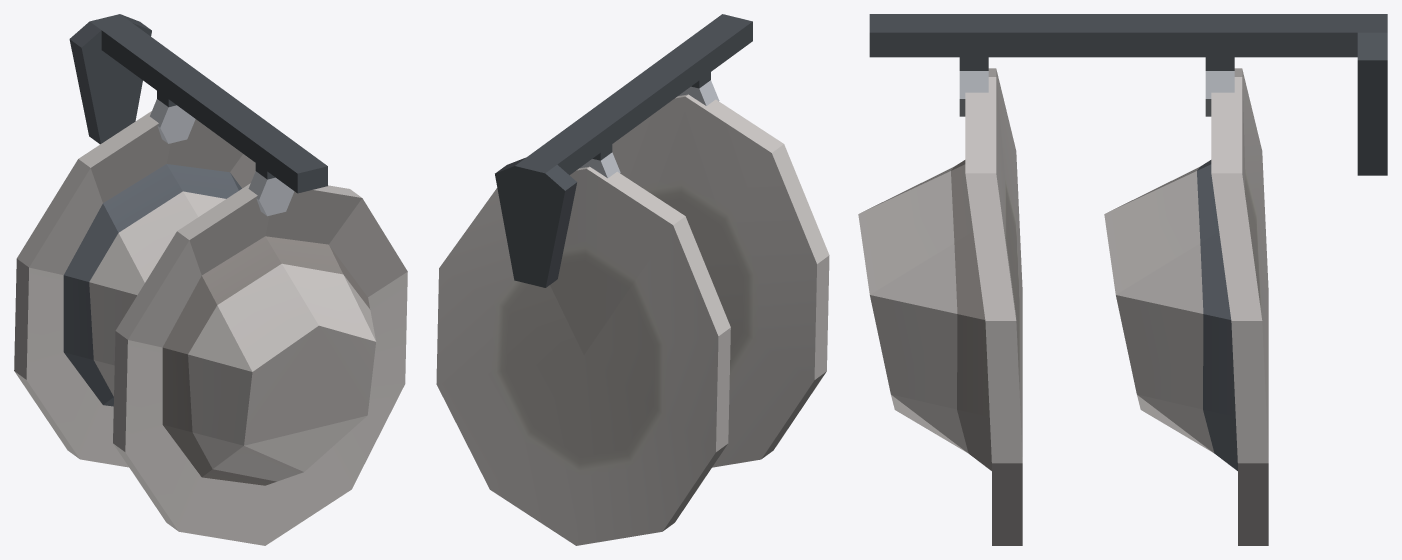
Rendered from SM_Prop_Clothes_Hat_Hanger_01.obj.
3 renders of one model, left to right at view 1: azimuth 30°, elevation 25°; view 2: azimuth 150°, elevation 25°; view 3: azimuth 270°, elevation 25°, orthographic. The views are drawn at different scales.
Visible parts, largest first — view 1: SM_Prop_Clothes_Hat_Hanger_01_0; view 2: SM_Prop_Clothes_Hat_Hanger_01_0; view 3: SM_Prop_Clothes_Hat_Hanger_01_0.
Part boxes in pixels (x1,y1,x2,y2): SM_Prop_Clothes_Hat_Hanger_01_0: (14, 14, 407, 545); SM_Prop_Clothes_Hat_Hanger_01_0: (436, 14, 829, 545); SM_Prop_Clothes_Hat_Hanger_01_0: (858, 14, 1387, 545).
Size of the model in its own units: 0.2869 by 0.4038 by 0.3775.
1 material, 1 textured.
